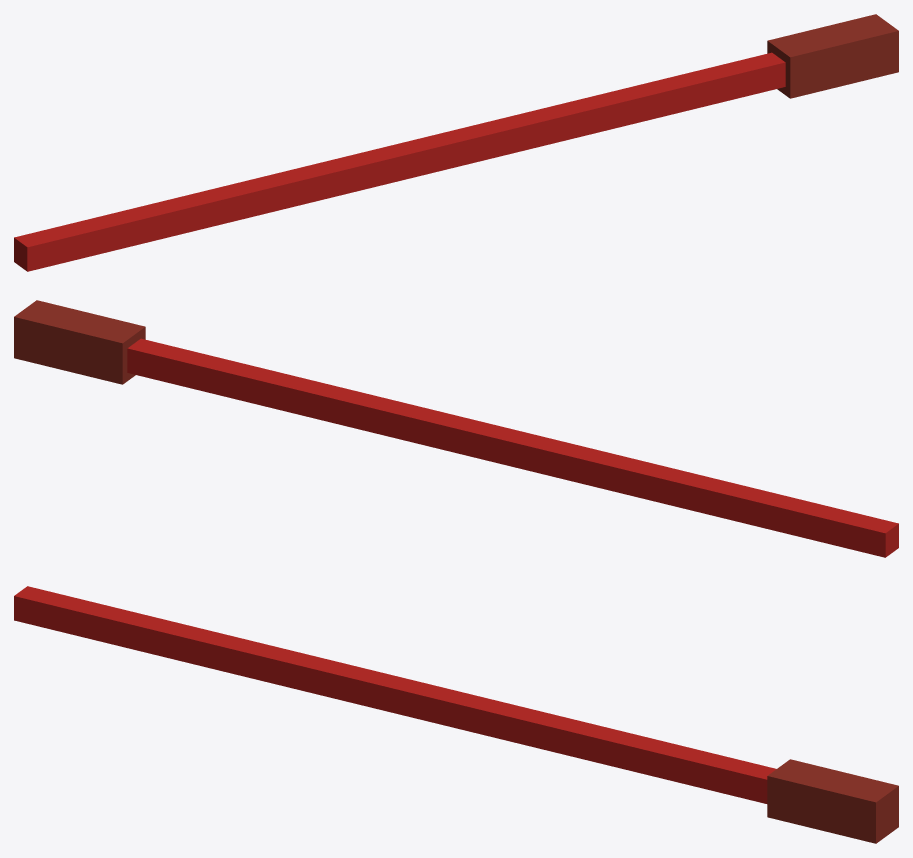
Rendered from Cable_E_1_2.glb.
3 views of the same model, one above another, from view 1: azimuth 30°, elevation 25°; view 2: azimuth 150°, elevation 25°; view 3: azimuth 330°, elevation 25° (orthographic).
Visible parts, largest first — view 1: Cable_E_1_2; view 2: Cable_E_1_2; view 3: Cable_E_1_2.
Part boxes in pixels (<box>): Cable_E_1_2: <box>14,14,898,271</box>; Cable_E_1_2: <box>14,300,898,557</box>; Cable_E_1_2: <box>14,586,898,843</box>.
Bounding box in the file's own units: 2.15 × 0.0983 × 0.0983.
Materials: 1 (1 with a texture image).
